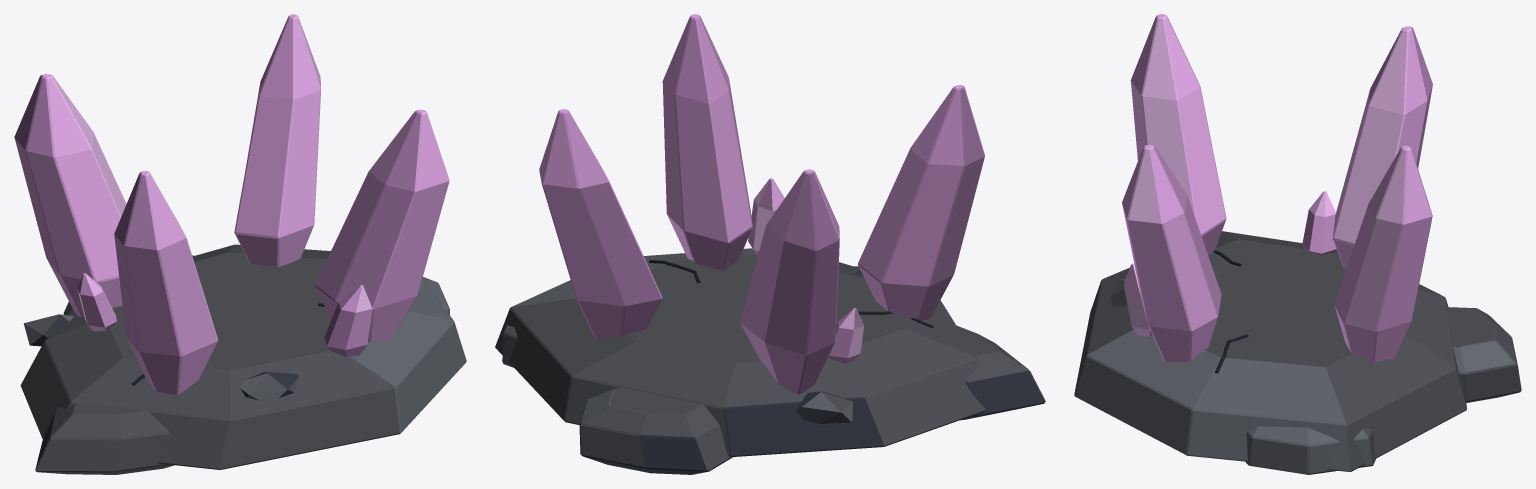
The model's file is BH_ORE_O06_Ametista_de_Colheita_V02.glb.
The picture shows the model from 3 angles, left to right: view 1: azimuth 30°, elevation 25°; view 2: azimuth 150°, elevation 25°; view 3: azimuth 270°, elevation 25°; orthographic projection.
Parts seen in each view (by area): view 1: Bedrock | primary.003, X amethyst 4.003, X amethyst 3.003, X amethyst 2.003, X amethyst 1.003, Bedrock | shoulder 1.003, O06 | V02 secondary crystal 1.001, O06 | V02 secondary crystal 0.001, O06 | V02 embedded stone ledge.003, O06 | V02 embedded stone ledge.002; view 2: Bedrock | primary.003, X amethyst 1.003, X amethyst 4.003, X amethyst 3.003, X amethyst 2.003, Bedrock | shoulder 3.003, Bedrock | shoulder 1.003, O06 | V02 embedded stone ledge.002, O06 | V02 secondary crystal 1.001, O06 | V02 secondary crystal 0.001; view 3: Bedrock | primary.003, X amethyst 4.003, X amethyst 2.003, X amethyst 1.003, X amethyst 3.003, Bedrock | shoulder 3.003, Bedrock | shoulder 2.003, O06 | V02 secondary crystal 0.001, O06 | V02 secondary crystal 1.001.
Boxes of the visible parts, left/top/right/bottom form: Bedrock | primary.003: left=20, top=244, right=466, bottom=469; X amethyst 4.003: left=315, top=109, right=449, bottom=342; X amethyst 3.003: left=14, top=74, right=126, bottom=316; X amethyst 2.003: left=234, top=14, right=321, bottom=267; X amethyst 1.003: left=114, top=171, right=217, bottom=394; Bedrock | shoulder 1.003: left=35, top=402, right=173, bottom=474; O06 | V02 secondary crystal 1.001: left=324, top=285, right=372, bottom=356; O06 | V02 secondary crystal 0.001: left=77, top=273, right=116, bottom=331; O06 | V02 embedded stone ledge.003: left=240, top=371, right=299, bottom=400; O06 | V02 embedded stone ledge.002: left=23, top=314, right=73, bottom=346; Bedrock | primary.003: left=495, top=248, right=985, bottom=456; X amethyst 1.003: left=858, top=85, right=984, bottom=320; X amethyst 4.003: left=662, top=14, right=752, bottom=270; X amethyst 3.003: left=740, top=169, right=839, bottom=394; X amethyst 2.003: left=539, top=109, right=662, bottom=338; Bedrock | shoulder 3.003: left=579, top=387, right=732, bottom=474; Bedrock | shoulder 1.003: left=956, top=325, right=1045, bottom=420; O06 | V02 embedded stone ledge.002: left=796, top=391, right=852, bottom=424; O06 | V02 secondary crystal 1.001: left=748, top=178, right=784, bottom=255; O06 | V02 secondary crystal 0.001: left=829, top=308, right=863, bottom=363; Bedrock | primary.003: left=1074, top=231, right=1466, bottom=471; X amethyst 4.003: left=1122, top=145, right=1221, bottom=362; X amethyst 2.003: left=1334, top=145, right=1432, bottom=362; X amethyst 1.003: left=1130, top=14, right=1226, bottom=255; X amethyst 3.003: left=1333, top=26, right=1432, bottom=268; Bedrock | shoulder 3.003: left=1447, top=307, right=1521, bottom=402; Bedrock | shoulder 2.003: left=1245, top=426, right=1375, bottom=474; O06 | V02 secondary crystal 0.001: left=1302, top=191, right=1335, bottom=255; O06 | V02 secondary crystal 1.001: left=1124, top=263, right=1152, bottom=336.
Size of the model in its own units: 2.92 by 1.8 by 2.45.
